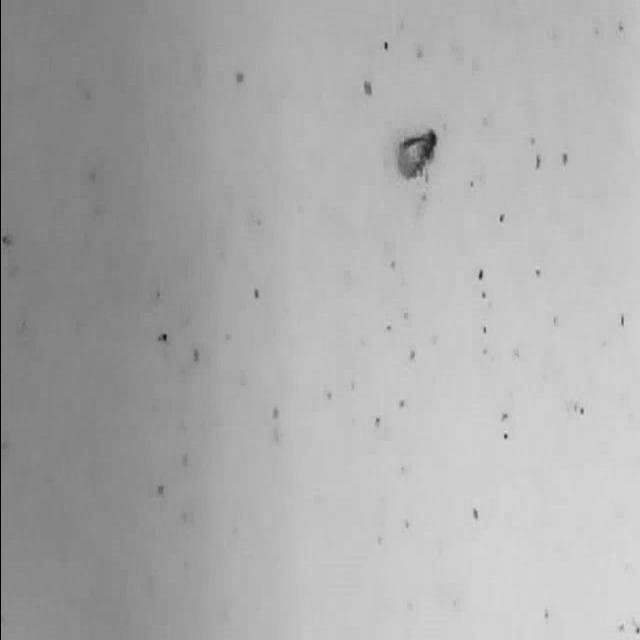larvas: (396, 124, 436, 180)
